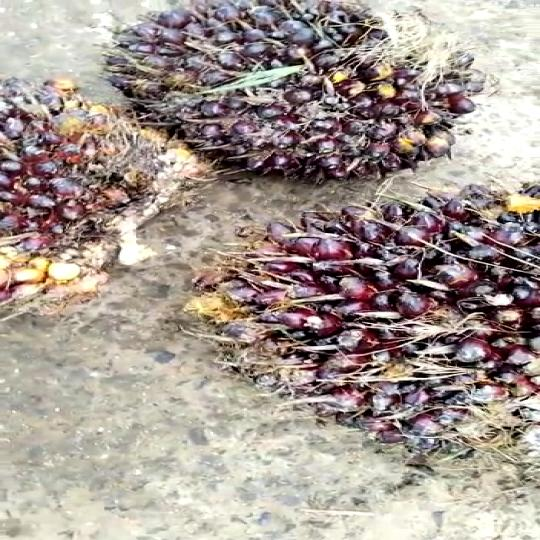kurang masak: (213, 183, 540, 466), (105, 0, 467, 162), (0, 86, 193, 300)
